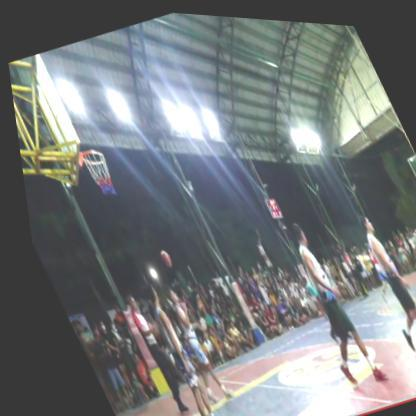basketball: (149, 241, 171, 271)
rim: (62, 131, 120, 205)
